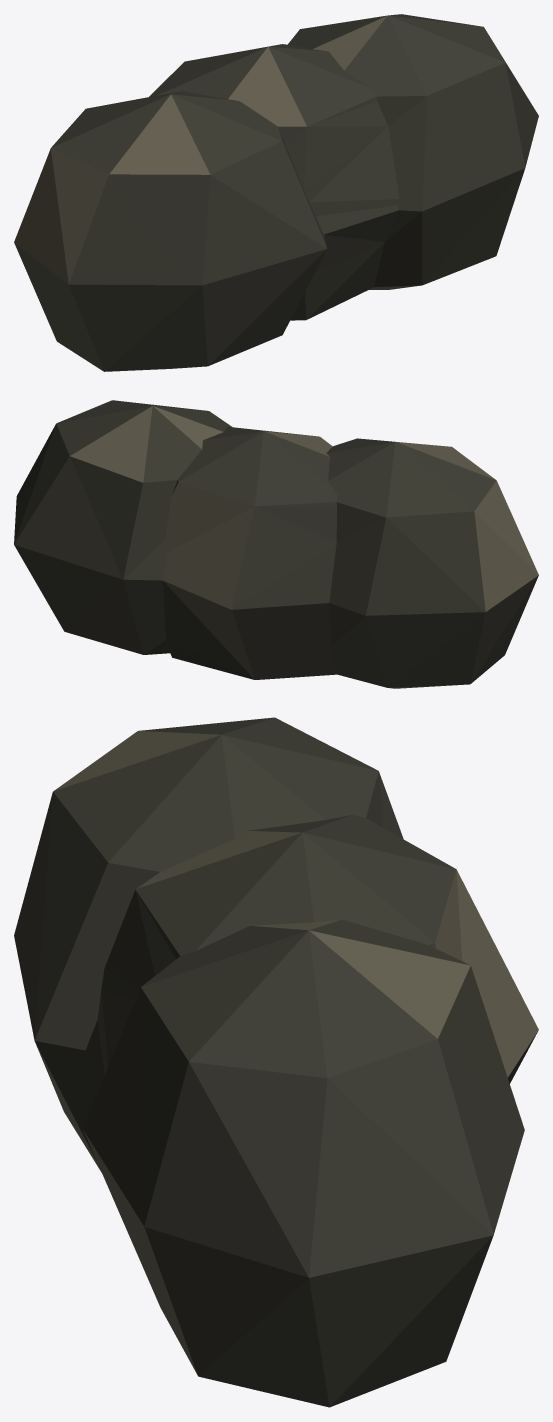
File: Rock_Cluster_03.fbx
3 renders of one model, top to bottom at view 1: azimuth 30°, elevation 25°; view 2: azimuth 150°, elevation 25°; view 3: azimuth 270°, elevation 25°, orthographic. The views are drawn at different scales.
Visible parts, largest first — view 1: Rock_Cluster_03_Mesh; view 2: Rock_Cluster_03_Mesh; view 3: Rock_Cluster_03_Mesh.
Boxes of the visible parts, x1=… form: Rock_Cluster_03_Mesh: x1=14, y1=14, x2=538, y2=371; Rock_Cluster_03_Mesh: x1=14, y1=400, x2=538, y2=688; Rock_Cluster_03_Mesh: x1=14, y1=717, x2=538, y2=1407.
Bounding box in the file's own units: 1.56 × 0.7788 × 0.8194.
1 material, 1 textured.
